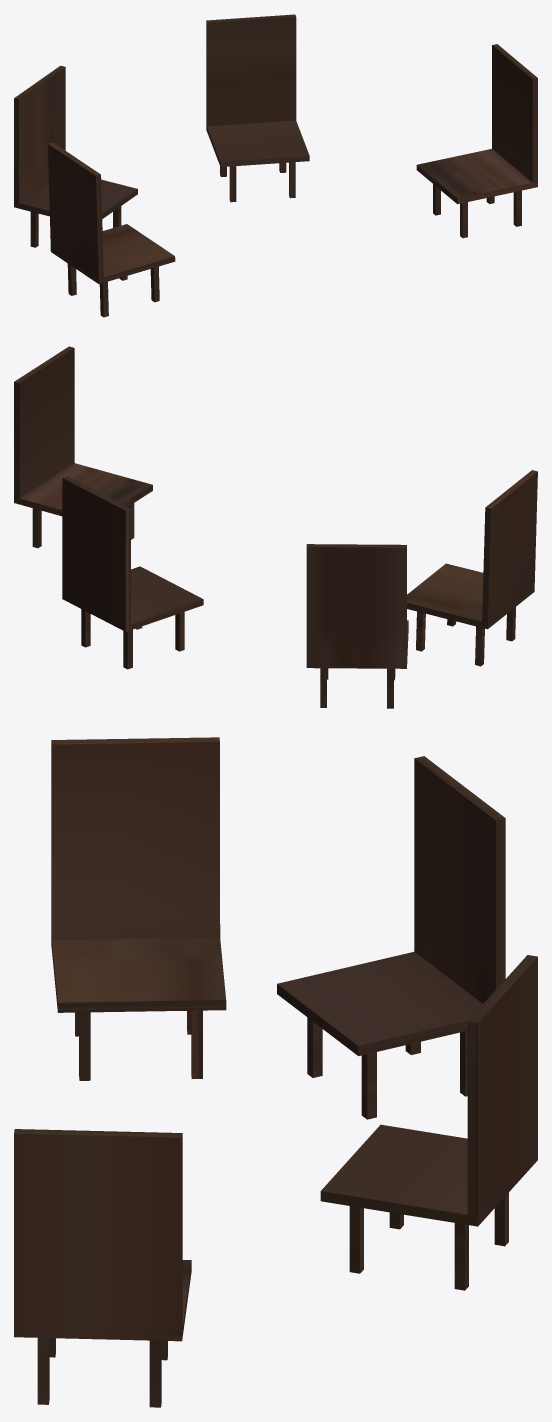
Rendered from Chair.obj.
3 renders of one model, top to bottom at view 1: azimuth 30°, elevation 25°; view 2: azimuth 150°, elevation 25°; view 3: azimuth 270°, elevation 25°, orthographic. The views are drawn at different scales.
Parts seen in each view (by area): view 1: Cube.021, Cube.015, Cube.009, Cube.027, Cube.022, Cube.016, Cube.010, Cube.004; view 2: Cube.009, Cube.021, Cube.027, Cube.015, Cube.010, Cube.022, Cube.016; view 3: Cube.027, Cube.015, Cube.009, Cube.021, Cube.004, Cube.010, Cube.016, Cube.008, Cube.020, Cube.017, Cube.022, Cube.024 (+4 smaller).
Part boxes in pixels (x1=…): Cube.021: x1=206, y1=14, x2=296, y2=130; Cube.015: x1=48, y1=142, x2=103, y2=283; Cube.009: x1=14, y1=65, x2=65, y2=202; Cube.027: x1=492, y1=44, x2=537, y2=185; Cube.022: x1=416, y1=149, x2=537, y2=204; Cube.016: x1=207, y1=120, x2=309, y2=167; Cube.010: x1=51, y1=224, x2=175, y2=283; Cube.004: x1=14, y1=179, x2=137, y2=218; Cube.009: x1=306, y1=544, x2=406, y2=668; Cube.021: x1=62, y1=476, x2=130, y2=631; Cube.027: x1=14, y1=346, x2=74, y2=502; Cube.015: x1=482, y1=470, x2=537, y2=628; Cube.010: x1=407, y1=563, x2=534, y2=629; Cube.022: x1=14, y1=463, x2=152, y2=516; Cube.016: x1=131, y1=566, x2=203, y2=629; Cube.027: x1=14, y1=1129, x2=182, y2=1340; Cube.015: x1=51, y1=737, x2=220, y2=949; Cube.009: x1=414, y1=756, x2=505, y2=1003; Cube.021: x1=467, y1=955, x2=537, y2=1226; Cube.004: x1=277, y1=951, x2=482, y2=1056; Cube.010: x1=51, y1=936, x2=226, y2=1012; Cube.016: x1=320, y1=1124, x2=477, y2=1226; Cube.008: x1=361, y1=1052, x2=376, y2=1119; Cube.020: x1=349, y1=1206, x2=363, y2=1273; Cube.017: x1=454, y1=1223, x2=468, y2=1290; Cube.022: x1=93, y1=1260, x2=191, y2=1341; Cube.024: x1=149, y1=1340, x2=161, y2=1407.
Size of the model in its own units: 8.43 by 2.78 by 4.67.
